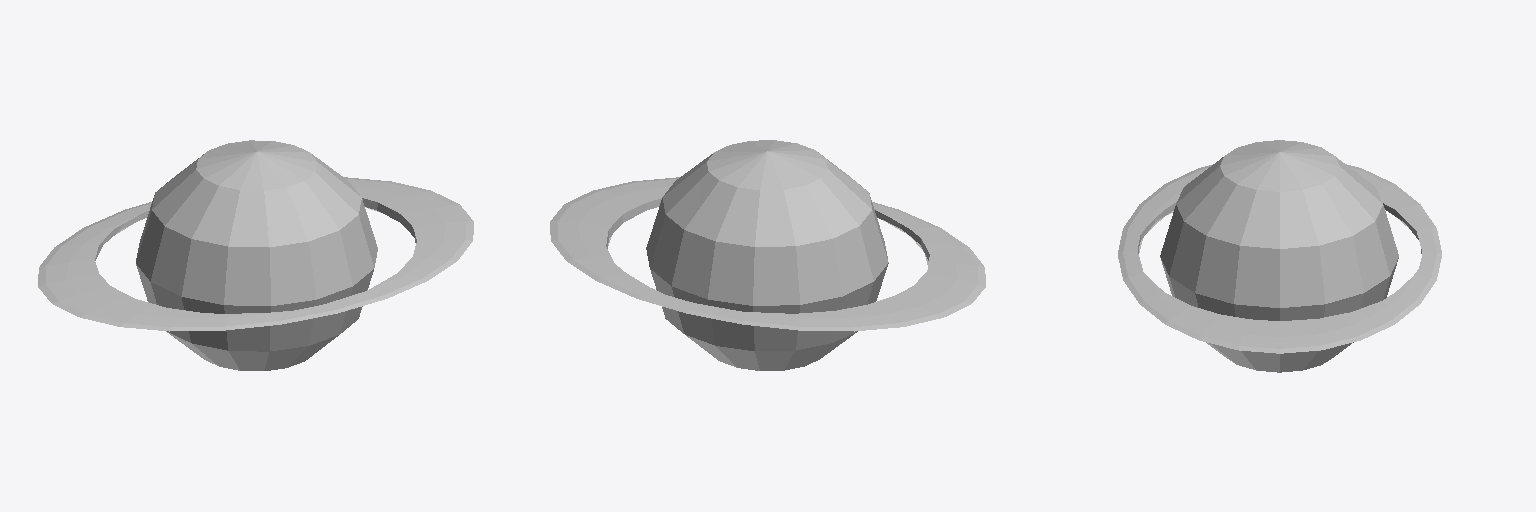
Rendered from uranus.obj.
The picture shows the model from 3 angles: view 1: azimuth 30°, elevation 25°; view 2: azimuth 150°, elevation 25°; view 3: azimuth 270°, elevation 25°; orthographic projection.
Parts seen in each view (by area): view 1: uranus.obj; view 2: uranus.obj; view 3: uranus.obj.
Boxes of the visible parts, box(x1,y1,x2,y2) form: uranus.obj: box(38, 140, 473, 370); uranus.obj: box(550, 140, 985, 370); uranus.obj: box(1118, 140, 1441, 372).
Size of the model in its own units: 7.28 by 3.56 by 5.02.